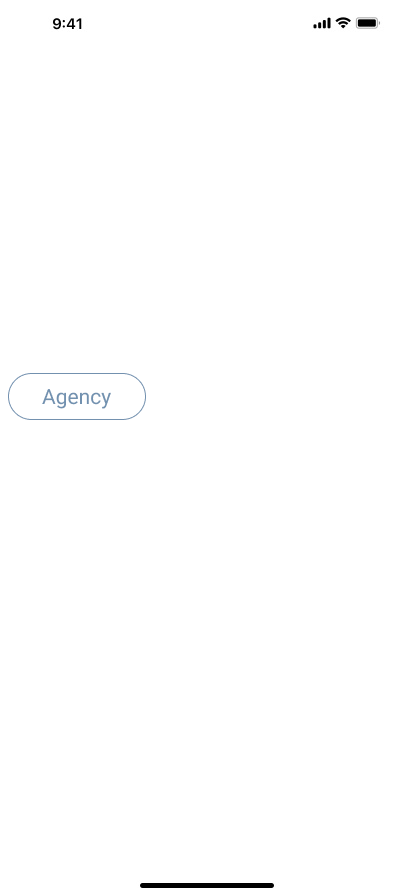Buttons: (8, 373, 154, 420)
Home Indicator: (0, 862, 414, 896)
Status Bar: (0, 0, 414, 44)
